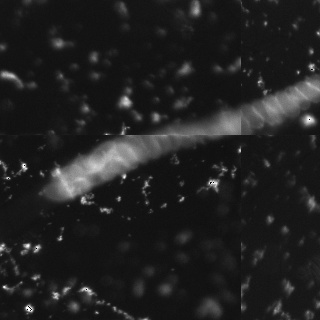embryo: (251, 100, 279, 126), (276, 91, 300, 118), (115, 143, 139, 170), (126, 135, 149, 162), (89, 142, 114, 166), (102, 152, 123, 180), (286, 86, 311, 109), (230, 112, 253, 137), (264, 96, 286, 122), (241, 104, 264, 128), (45, 182, 72, 202), (60, 177, 86, 197), (139, 135, 160, 158), (59, 164, 81, 184), (73, 156, 94, 176), (151, 134, 171, 154), (162, 132, 180, 151)
